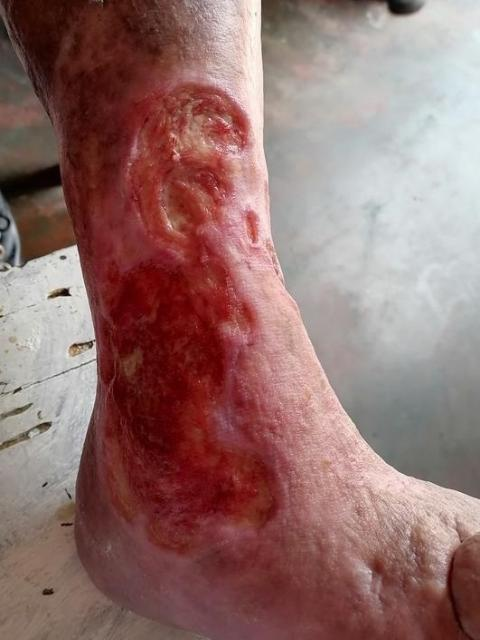wound: (93, 81, 280, 556), (244, 213, 257, 244)
